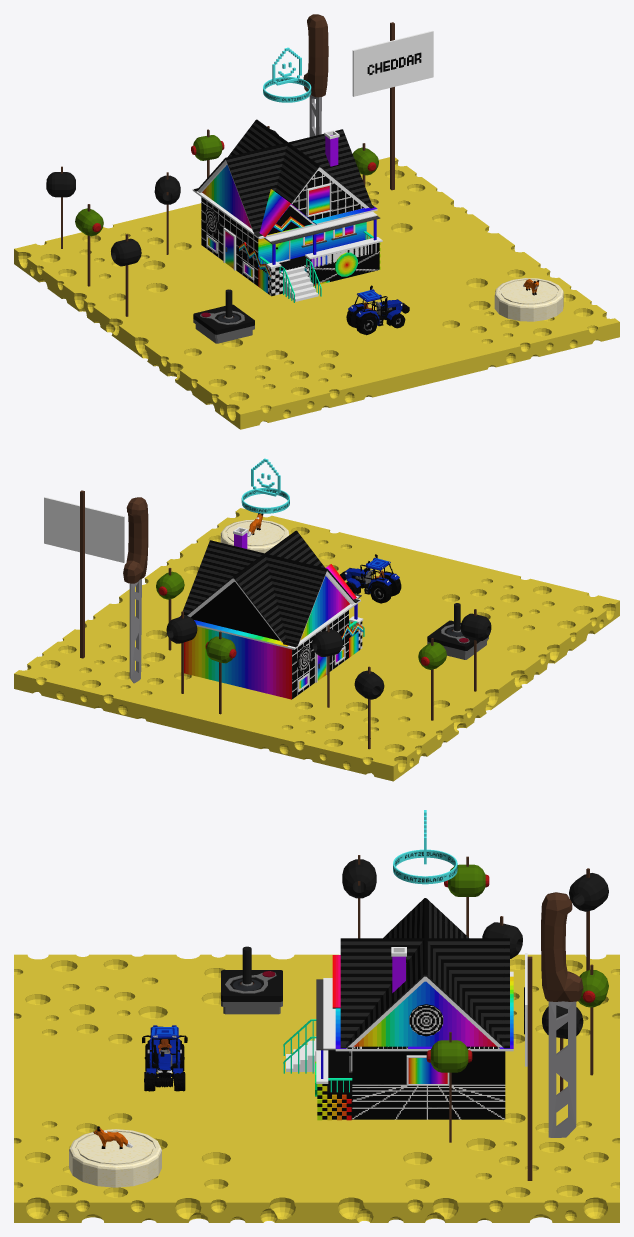
3 views of the same model, one above another, from view 1: azimuth 30°, elevation 25°; view 2: azimuth 150°, elevation 25°; view 3: azimuth 270°, elevation 25° (orthographic). The views are drawn at different scales.
Visible parts, largest first — view 1: Cube.022, Cube.1320, Cube.023, Cylinder.016, Cube.024, OBJRANDOM_JOYSTICK, VEHICLES_TRACTOR, TYPE_PREMIUM, Sphere.017, Sphere.018, Sphere.016, Sphere.020 (+2 smaller); view 2: Cube.022, Cube.1320, Cube.023, Cube.024, VEHICLES_TRACTOR, OBJRANDOM_JOYSTICK, Cylinder.016, TYPE_PREMIUM, Sphere.021, Sphere.017, Sphere.020, Sphere.022 (+3 smaller); view 3: Cube.022, Cube.1320, Cube.024, Cylinder.016, OBJRANDOM_JOYSTICK, VEHICLES_TRACTOR, Cube.023, Sphere.019, Sphere.016, TYPE_PREMIUM, Sphere.017, Sphere.018 (+3 smaller).
Boxes of the visible parts, x1,y1,x2,y2 form: Cube.022: (14, 157, 619, 429); Cube.1320: (192, 119, 382, 302); Cube.023: (352, 22, 433, 190); Cylinder.016: (494, 278, 563, 321); Cube.024: (303, 14, 328, 136); OBJRANDOM_JOYSTICK: (193, 289, 254, 343); VEHICLES_TRACTOR: (346, 285, 409, 335); TYPE_PREMIUM: (263, 47, 311, 102); Sphere.017: (111, 234, 141, 316); Sphere.018: (75, 204, 103, 286); Sphere.016: (46, 166, 75, 248); Sphere.020: (154, 172, 180, 254); Cube.022: (14, 508, 619, 781); Cube.1320: (180, 527, 364, 699); Cube.023: (44, 490, 124, 658); Cube.024: (123, 497, 148, 683); VEHICLES_TRACTOR: (340, 554, 401, 603); OBJRANDOM_JOYSTICK: (427, 603, 488, 659); Cylinder.016: (220, 519, 289, 553); TYPE_PREMIUM: (241, 458, 289, 513); Sphere.021: (166, 611, 197, 693); Sphere.017: (460, 609, 491, 691); Sphere.020: (312, 625, 342, 707); Sphere.022: (205, 631, 236, 714); Cube.022: (14, 954, 619, 1222); Cube.1320: (283, 898, 513, 1120); Cube.024: (541, 892, 583, 1137); Cylinder.016: (69, 1129, 161, 1187); OBJRANDOM_JOYSTICK: (221, 946, 282, 1014); VEHICLES_TRACTOR: (142, 1025, 187, 1091); Cube.023: (524, 953, 532, 1180); Sphere.019: (426, 1032, 472, 1142); Sphere.016: (569, 868, 608, 970); TYPE_PREMIUM: (393, 810, 457, 884); Sphere.017: (342, 855, 376, 938); Sphere.018: (444, 856, 489, 937).
Size of the model in its own units: 3917 by 2240 by 4000.
37 materials, 6 textured.
